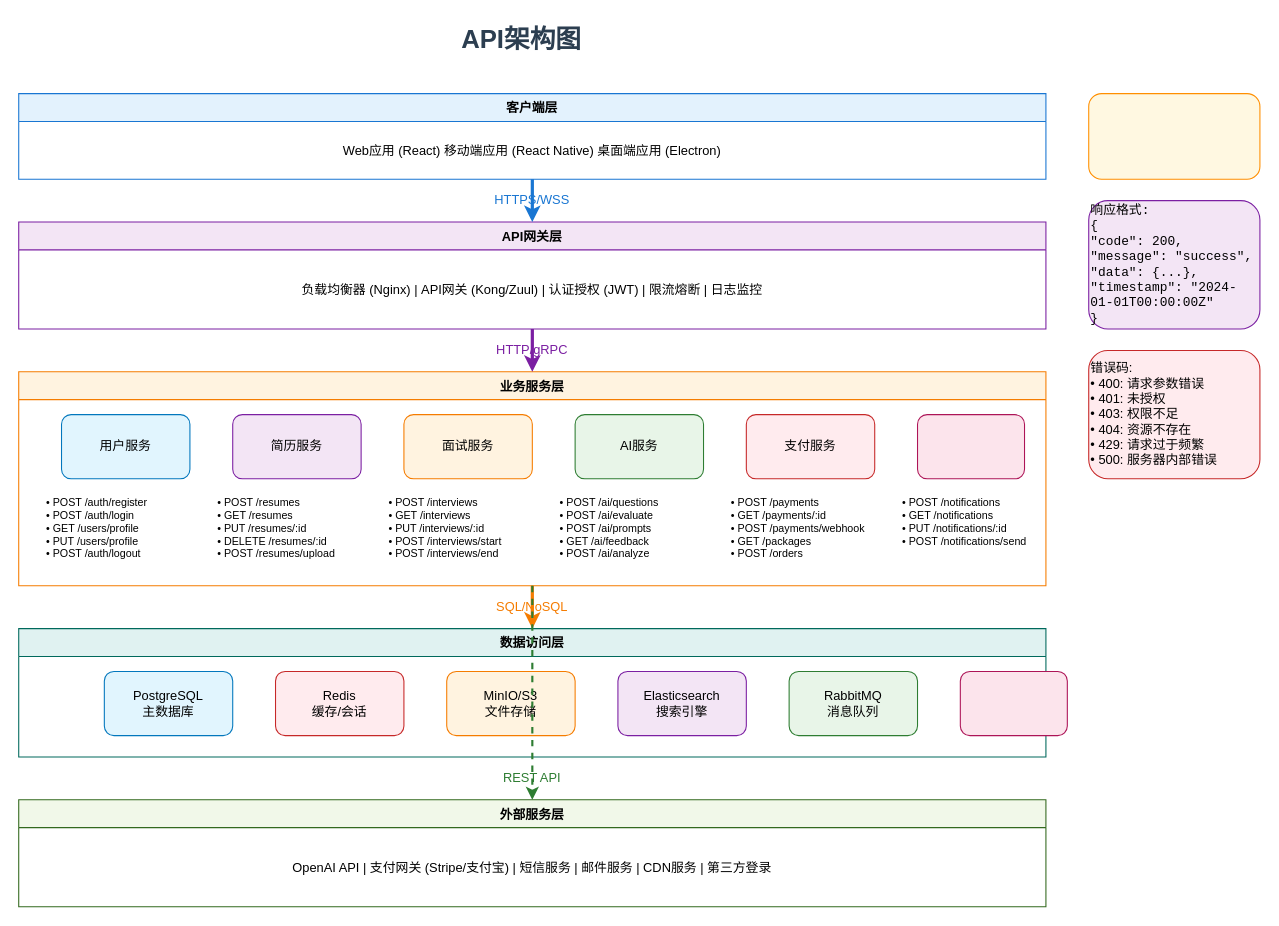
The diagram is 1279 pixels wide and 926 high, and some of its shapes have lost their labels. The shapes that lost their labels are listed below. From the top down, each one's centre as x and y in pixels, then its label:
[1174,136]: API版本: v1 协议: REST + GraphQL 认证: JWT Bearer Token 限流: 1000 req/min
[970,446]: 通知服务
[1013,703]: ELK Stack 监控日志
